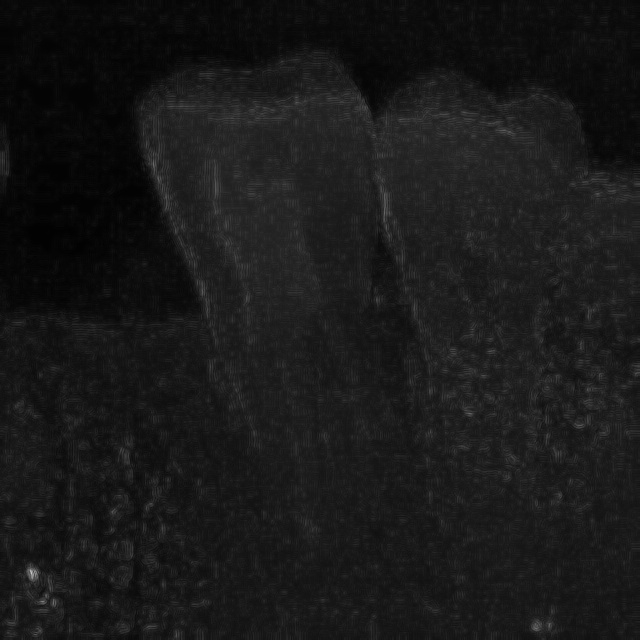Class 0- No endodontic treatment: (68, 39, 441, 606)
